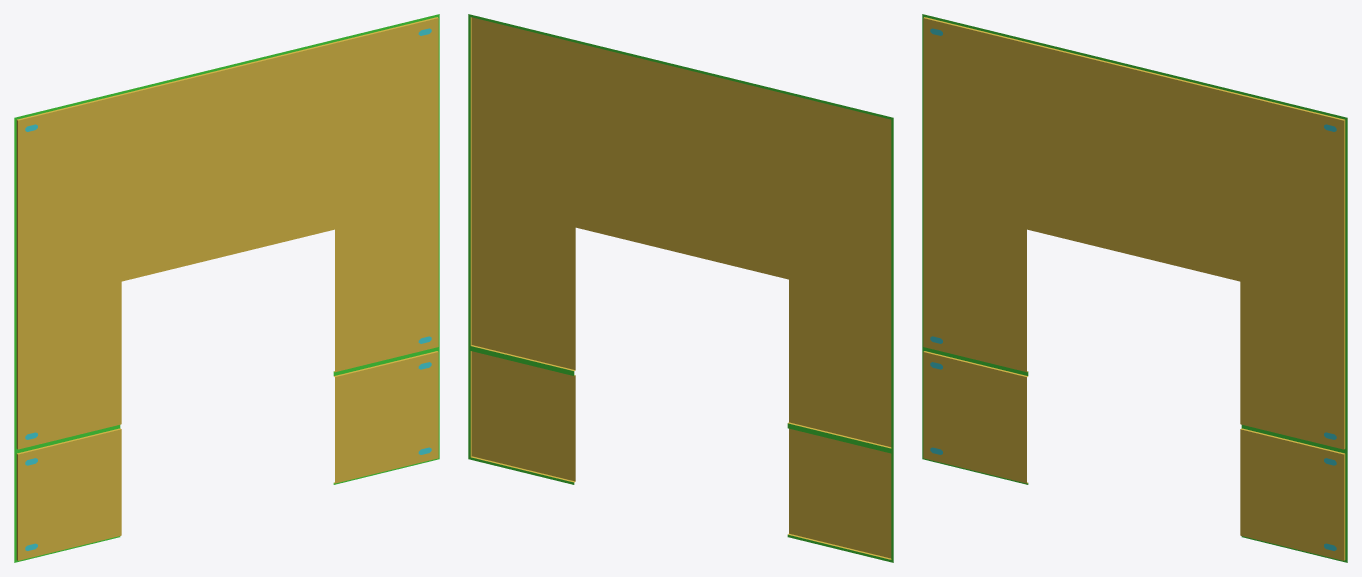
Rendered from Wall_49_A_Door.fbx.
The picture shows the model from 3 angles, left to right: view 1: azimuth 30°, elevation 25°; view 2: azimuth 150°, elevation 25°; view 3: azimuth 330°, elevation 25°; orthographic projection.
Visible parts, largest first — view 1: Wall_49_A_Door; view 2: Wall_49_A_Door; view 3: Wall_49_A_Door.
Boxes of the visible parts, bbox=[...] form: Wall_49_A_Door: bbox=[14, 14, 439, 562]; Wall_49_A_Door: bbox=[468, 14, 893, 562]; Wall_49_A_Door: bbox=[922, 14, 1347, 562].
Bounding box in the file's own units: 457 × 457 × 2.72.
